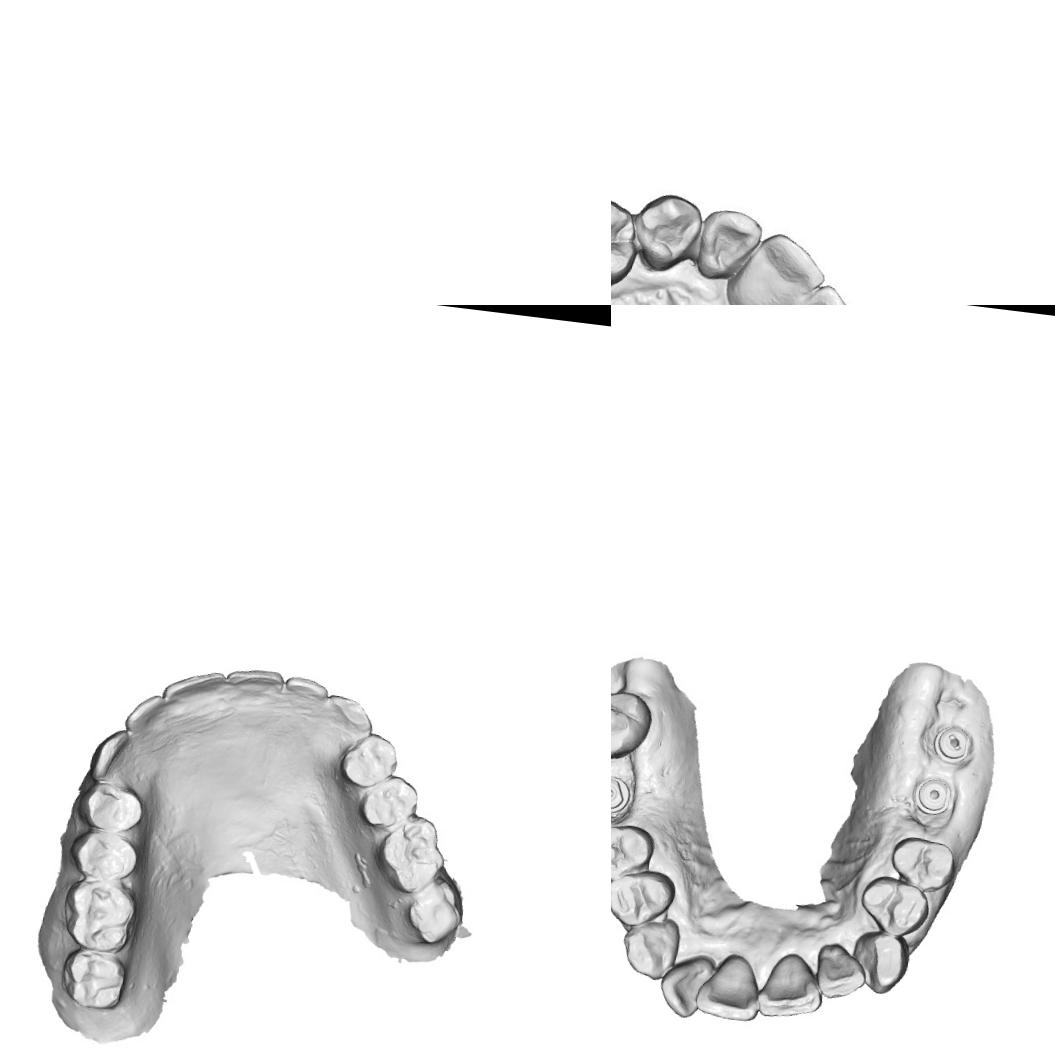canine: (630, 186, 706, 278), (848, 927, 914, 999), (618, 919, 682, 982), (320, 692, 378, 754), (86, 724, 139, 786)
implant: (909, 772, 958, 819), (611, 773, 634, 819)
implant_minus: (928, 721, 975, 765)
incisor: (730, 229, 828, 305), (692, 203, 764, 285), (693, 949, 766, 1025), (754, 950, 828, 1024), (654, 952, 713, 1020), (161, 664, 228, 716), (814, 942, 870, 1004), (763, 273, 865, 305), (223, 662, 286, 706), (281, 674, 332, 722), (122, 688, 166, 742)
molar: (371, 810, 452, 898), (58, 873, 140, 954), (56, 944, 129, 1012), (394, 881, 464, 950), (611, 684, 655, 773)
premolar: (856, 872, 932, 940), (887, 832, 960, 894), (334, 728, 403, 792), (611, 866, 677, 932), (65, 826, 141, 883), (74, 778, 148, 835), (356, 770, 422, 832), (611, 190, 643, 291), (611, 820, 657, 886)
